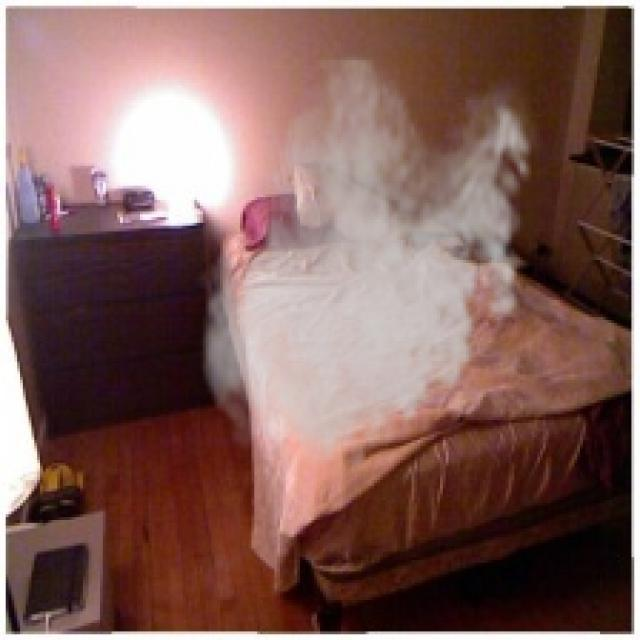Smoke: (194, 54, 543, 480)
